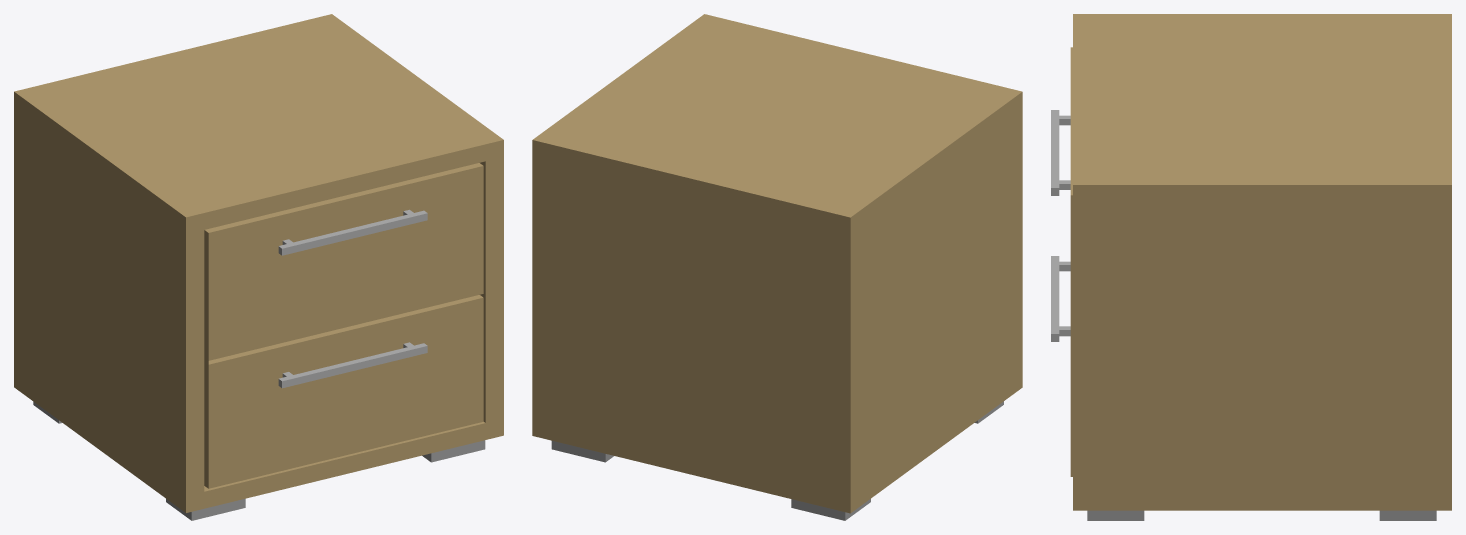
Rendered from bedsideTable2.obj.
3 views of the same model, side by side, from view 1: azimuth 30°, elevation 25°; view 2: azimuth 150°, elevation 25°; view 3: azimuth 270°, elevation 25° (orthographic). The views are drawn at different scales.
Parts seen in each view (by area): view 1: bedside_table.001_Cube.005; view 2: bedside_table.001_Cube.005; view 3: bedside_table.001_Cube.005.
Part boxes in pixels (<box>): bedside_table.001_Cube.005: <box>14,14,503,520</box>; bedside_table.001_Cube.005: <box>532,14,1022,520</box>; bedside_table.001_Cube.005: <box>1051,14,1451,520</box>.
Bounding box in the file's own units: 48.56 × 45.42 × 48.13.
